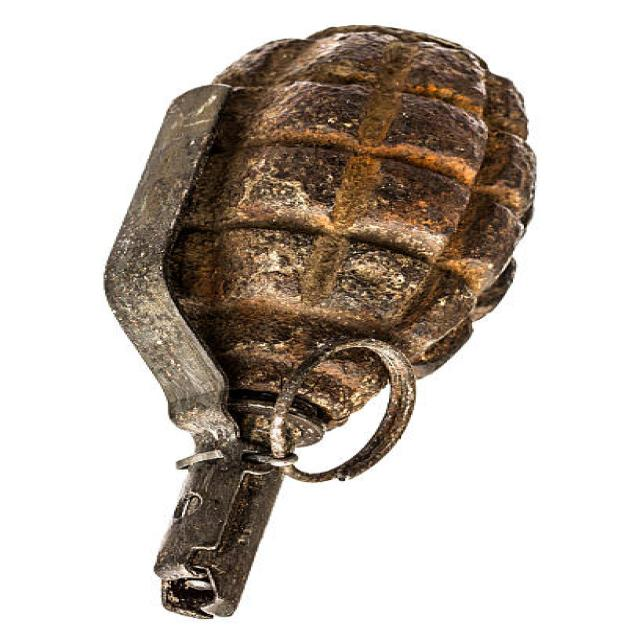grenade: (91, 20, 547, 632)
